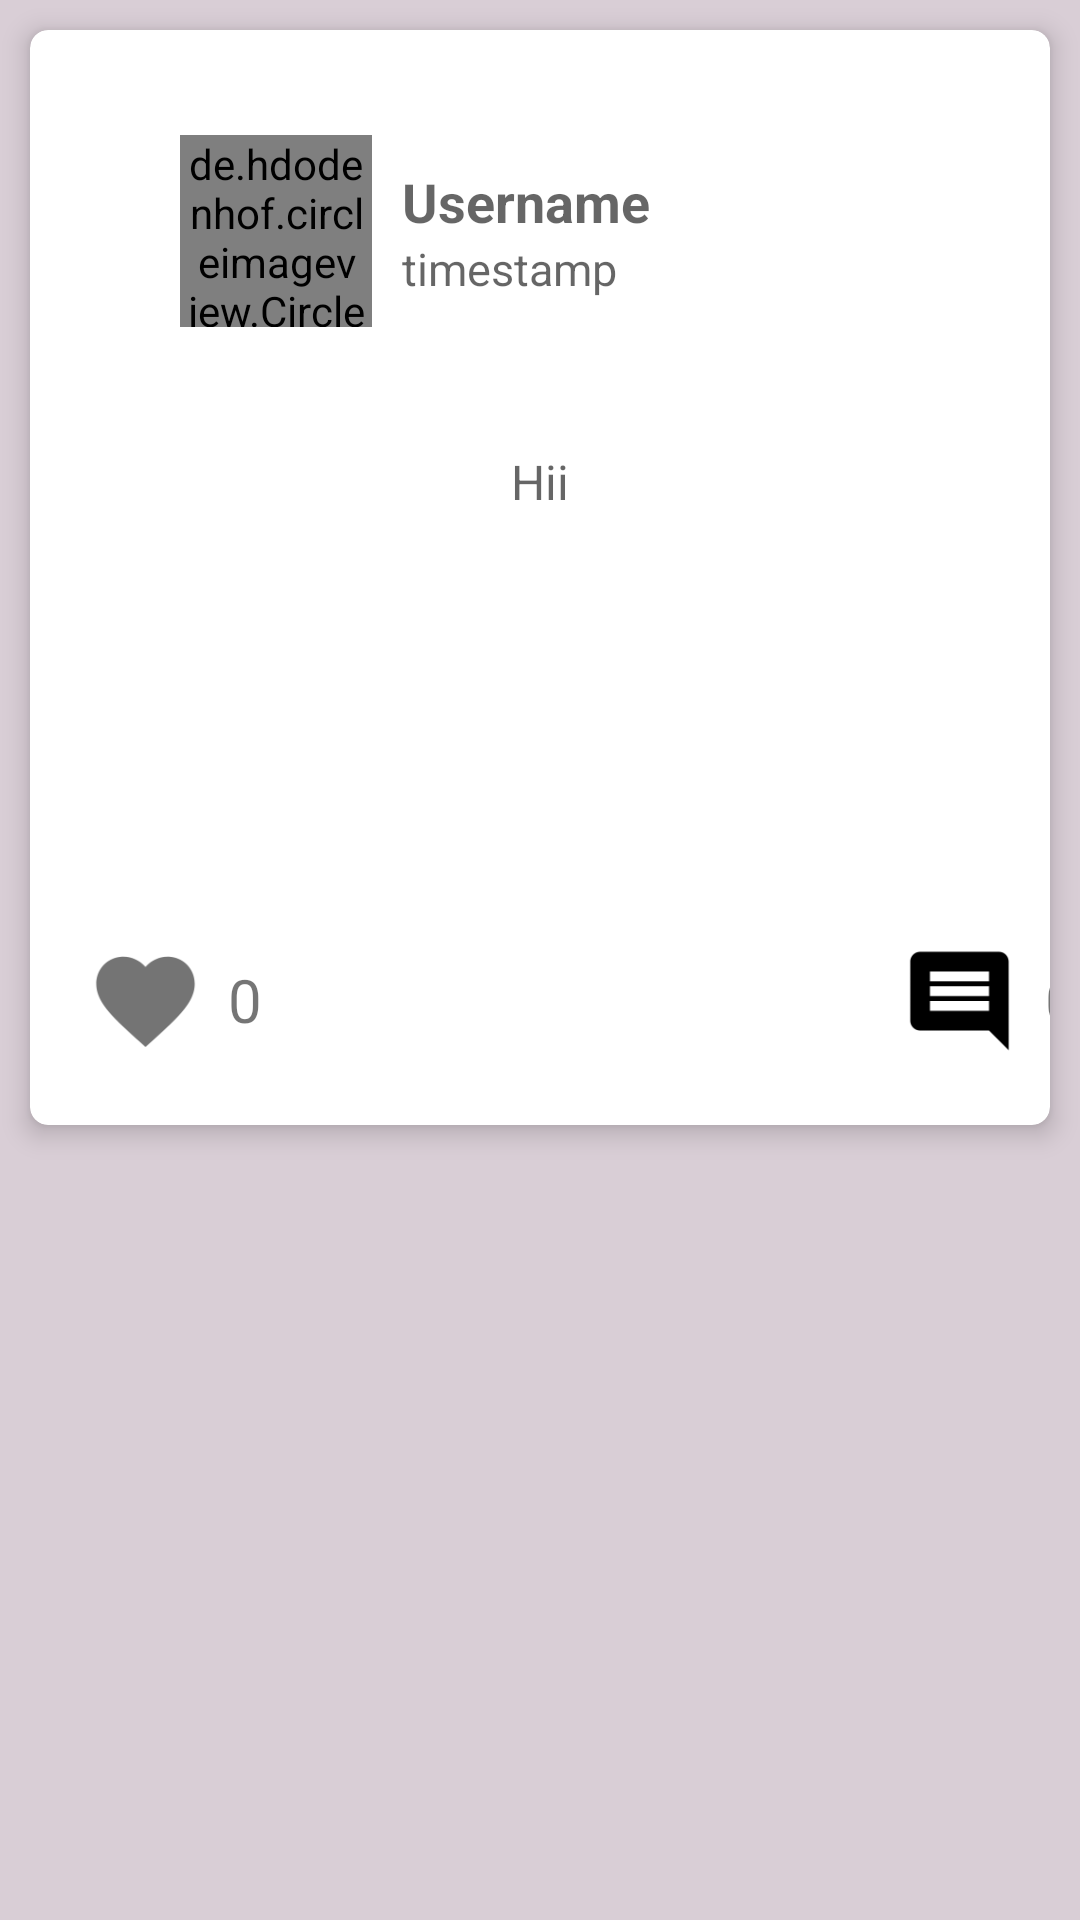

Screen size 1080 x 1920. Icon name, then its center in pixels as (x,y):
comment: (959,1000)
like: (145,1001)
